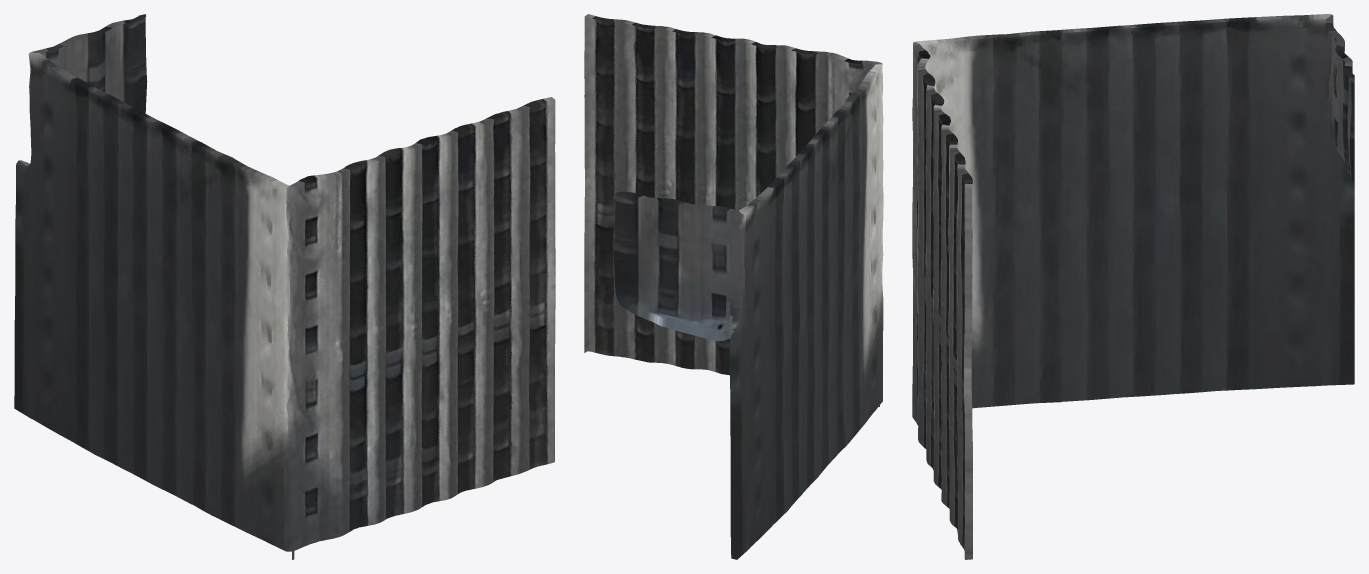
File: z20-167772-405235-h1-yup-uvflip-v3-world.glb
The picture shows the model from 3 angles, left to right: view 1: azimuth 30°, elevation 25°; view 2: azimuth 150°, elevation 25°; view 3: azimuth 270°, elevation 25°; orthographic projection. The views are drawn at different scales.
Bounding box in the file's own units: 25.76 × 26.04 × 27.44.
1 material, 1 textured.
